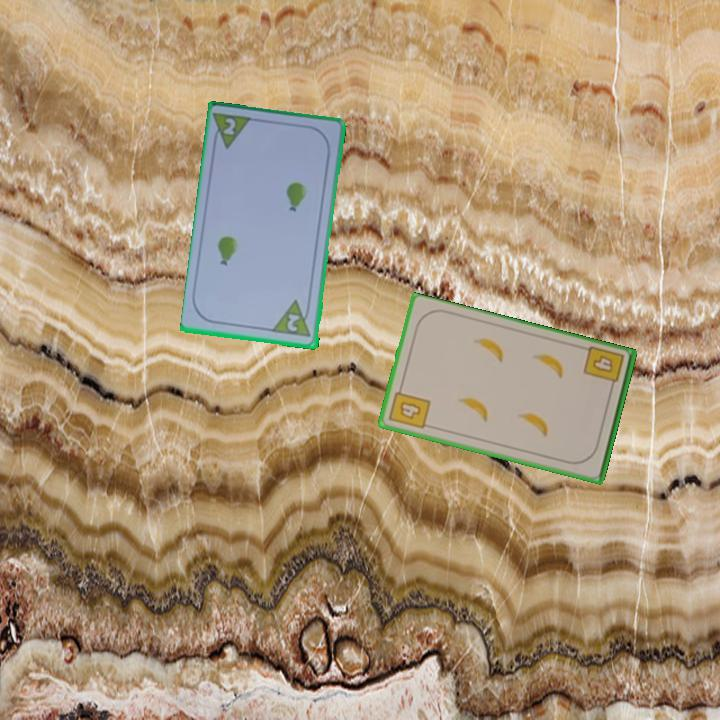2p: (209, 109, 256, 153), (270, 297, 314, 340)
4b: (385, 382, 433, 432), (580, 343, 627, 394)
